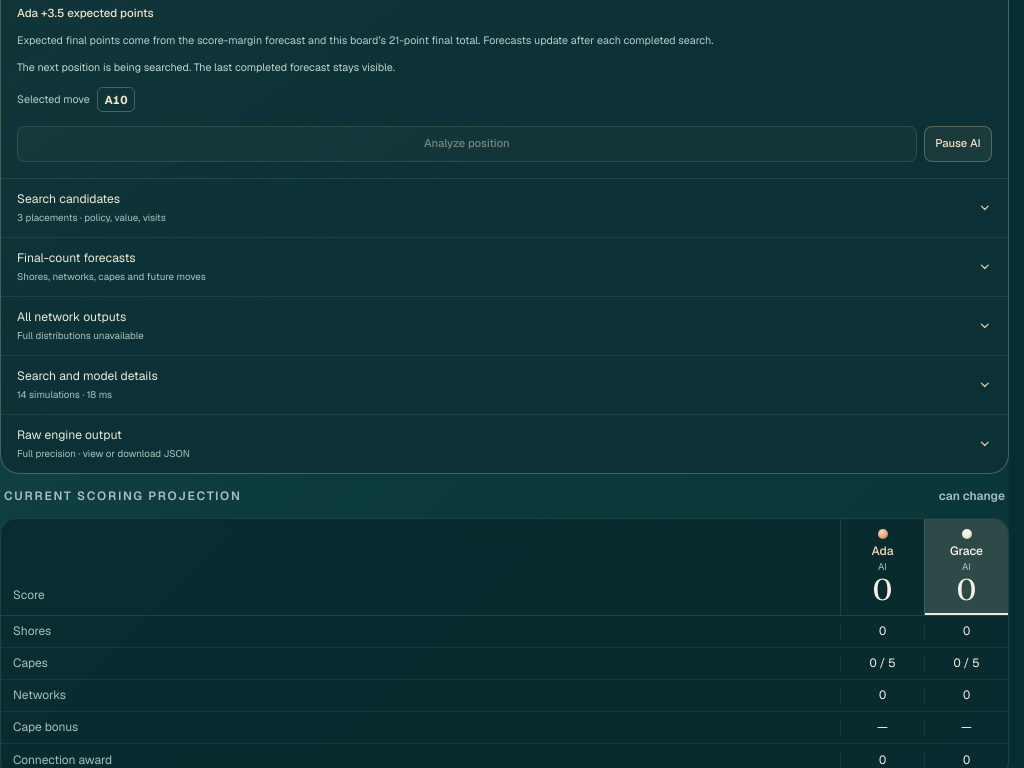
Test: GameScreen AI lifecycle › renders named estimates and top board labels from the accepted perspective
(page scrolled)
Expected: the text "Expected final points come from" is shown, [17,32,389,46]
Expected: the text "Ada +3.5 expected points" is shown, [17,5,154,20]
Click the button "Search and model details 14 simulations · 18 ms" at (87,376), box [1,356,1008,414]
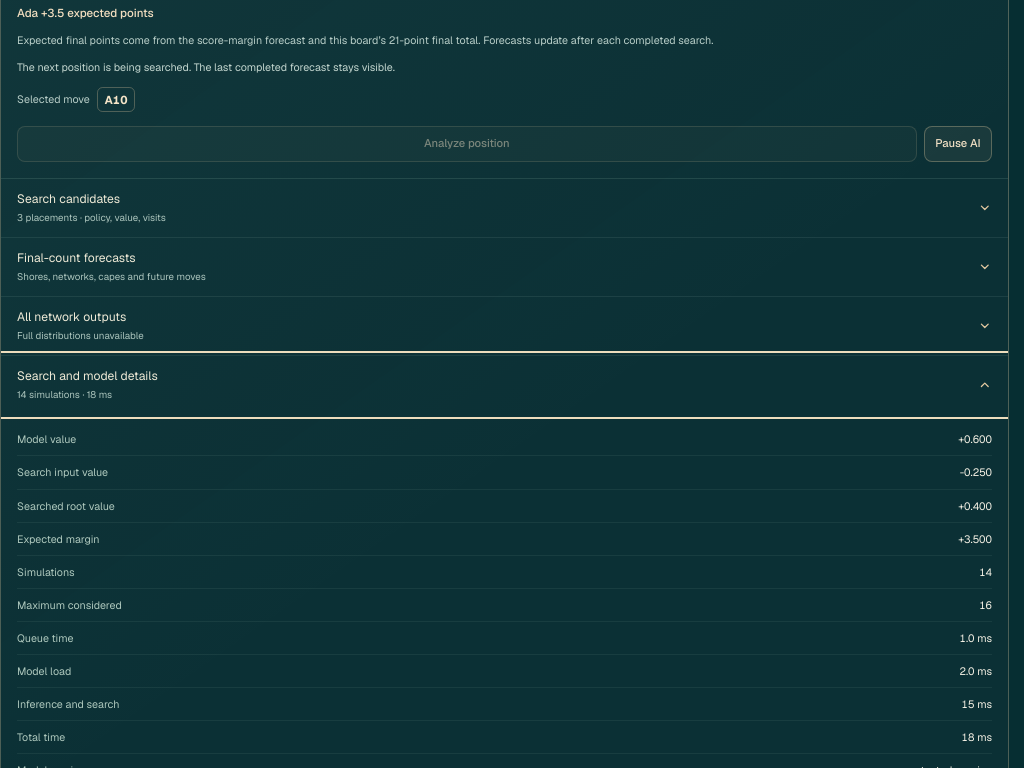
Expected: the text "-0.250" is shown, [960,464,992,480]
Expected: the text "14" is shown, [979,564,992,580]
Expected: the text "18 ms" is shown, [962,729,992,745]
Click the button "Search candidates 3 placements · policy, value, visits" at (69,199), box [1,179,1008,237]
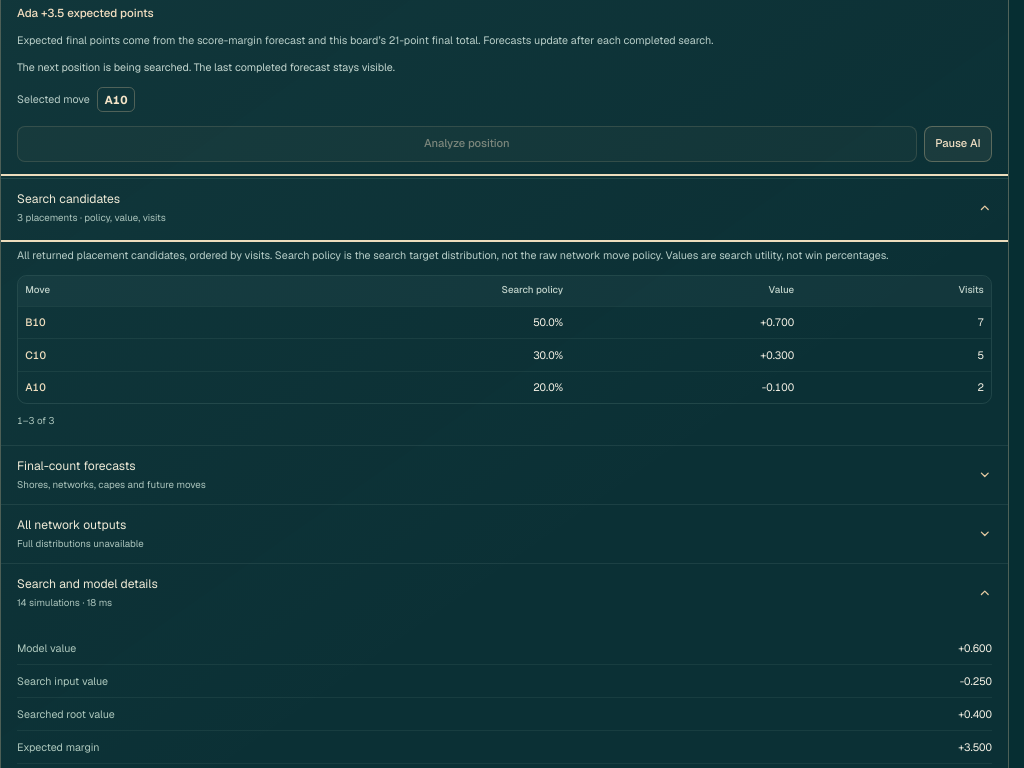
Expected: the row "B10 50.0% +0.700 7" is shown, [18,307,991,339]
Expected: the row "C10 30.0% +0.300 5" is shown, [18,339,991,371]
Expected: the row "A10 20.0% -0.100 2" is shown, [18,371,991,403]
